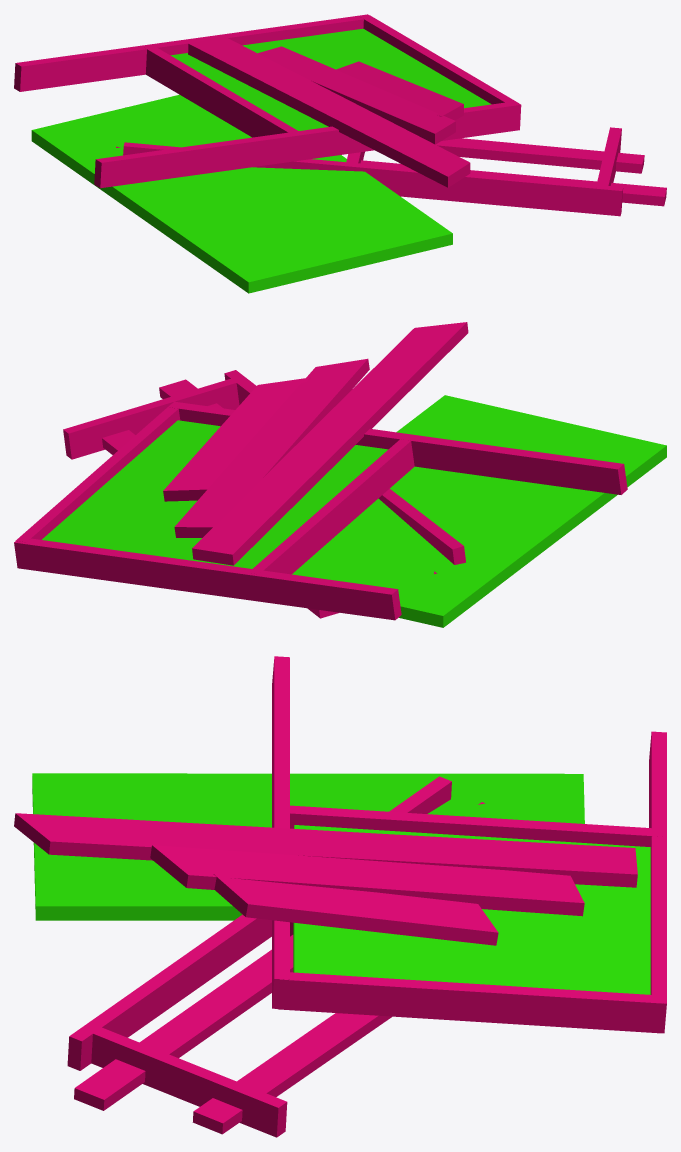
The model's file is House_Wood_Debris_Grp_02.fbx.
The picture shows the model from 3 angles, top to bottom: view 1: azimuth 30°, elevation 25°; view 2: azimuth 150°, elevation 25°; view 3: azimuth 270°, elevation 25°; orthographic projection. The views are drawn at different scales.
Visible parts, largest first — view 1: House_Wood_Debris_Grp_02; view 2: House_Wood_Debris_Grp_02; view 3: House_Wood_Debris_Grp_02.
Boxes of the visible parts, x1,y1,x2,y2 form: House_Wood_Debris_Grp_02: [14, 14, 666, 293]; House_Wood_Debris_Grp_02: [14, 322, 666, 627]; House_Wood_Debris_Grp_02: [14, 656, 666, 1137].
Bounding box in the file's own units: 213 × 45.9 × 177.
